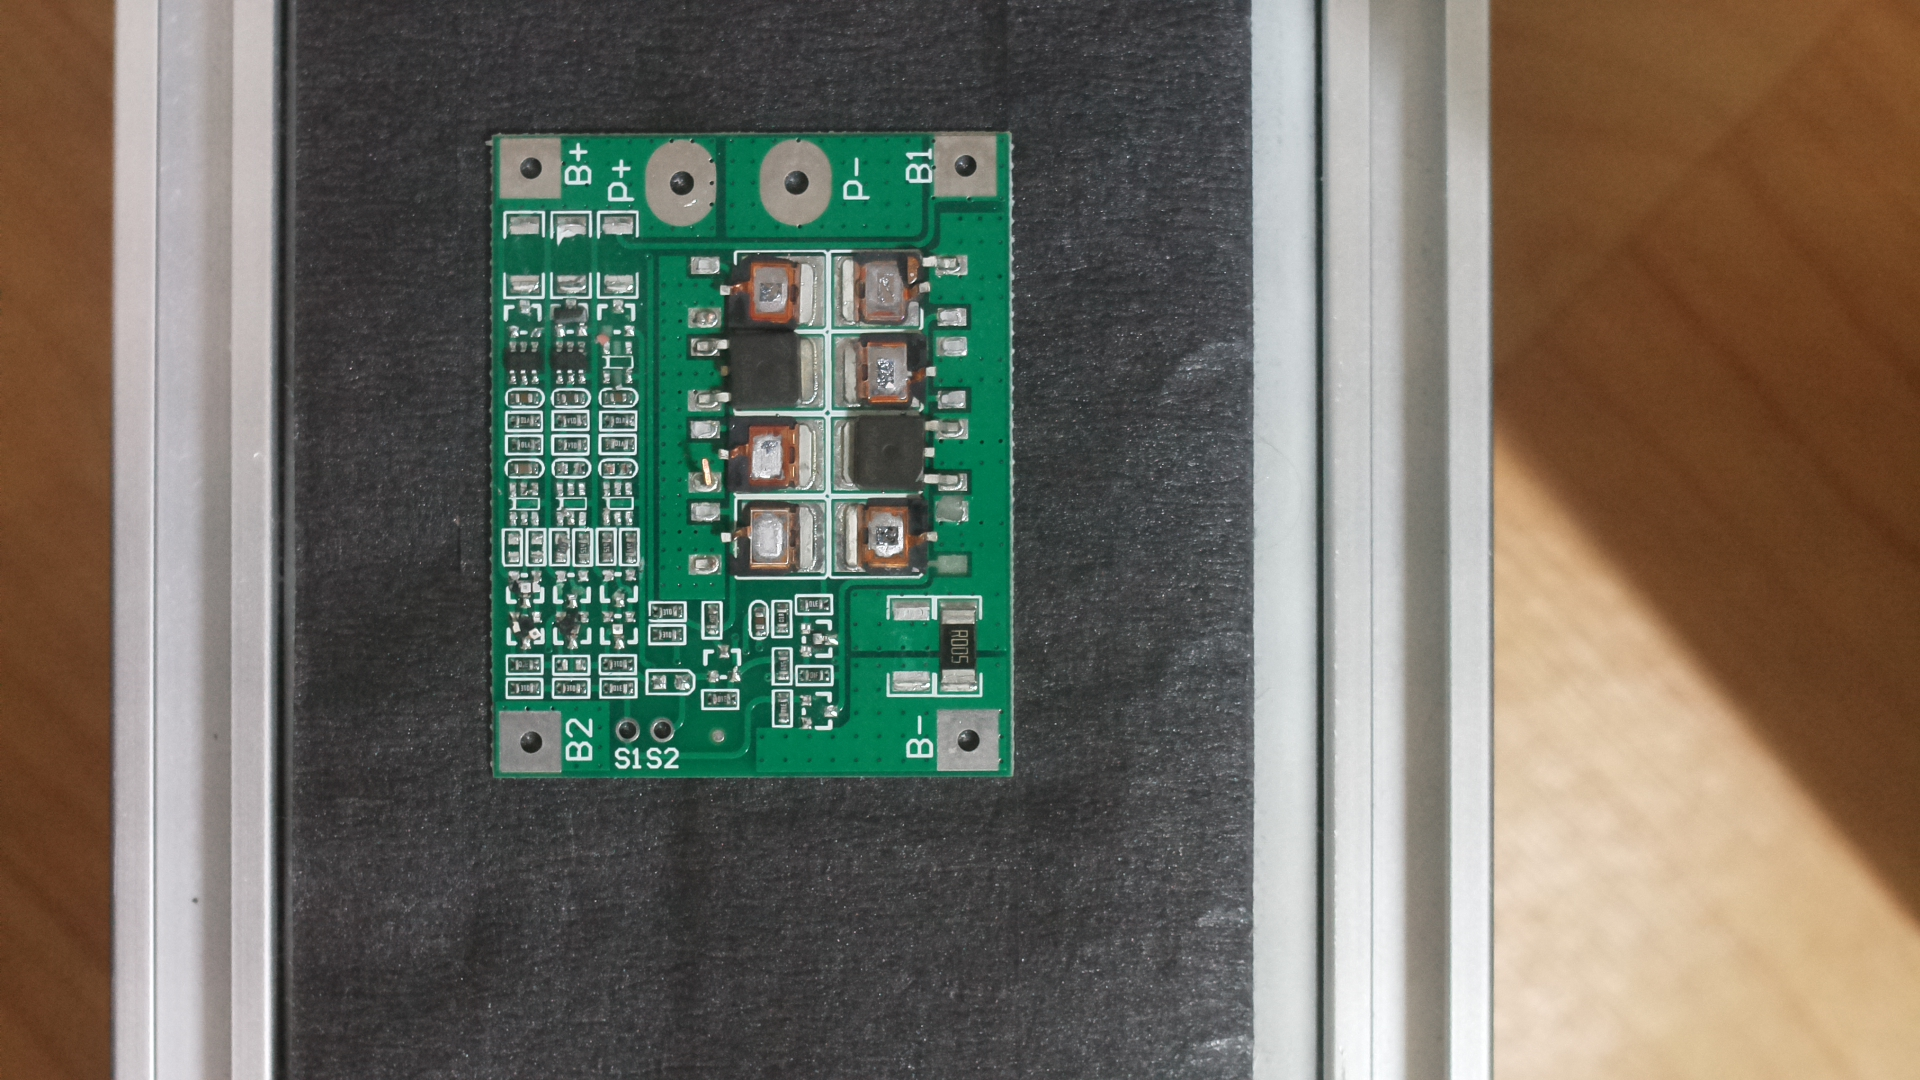C_Missing_part: (476, 109, 1029, 799)
